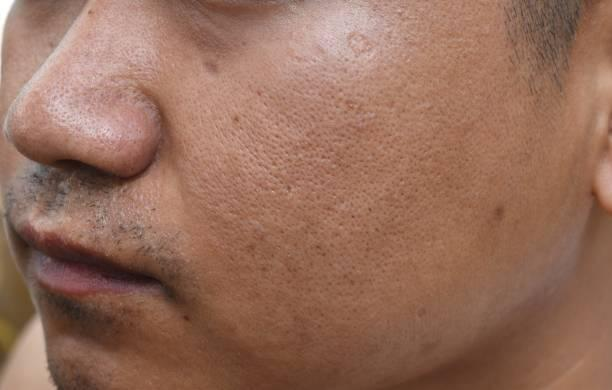Dry-Skin: (65, 60, 229, 189), (395, 126, 568, 233), (151, 224, 261, 353), (288, 217, 416, 318), (330, 20, 421, 104), (223, 73, 298, 171)
